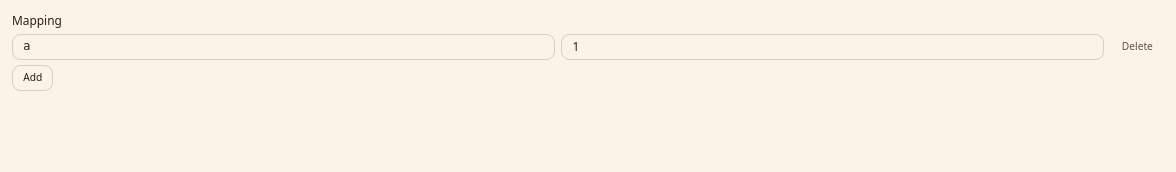
Scenario: KeyValueField › кнопка «Добавить» добавляет пустую строку парой инпутов
The image size is (1176, 172).
expect the number of fields is 2: met, box [12,34,554,60]; [561,34,1104,60]
Click the button "Add" at {"x": 33, "y": 78}, box [12,65,53,91]
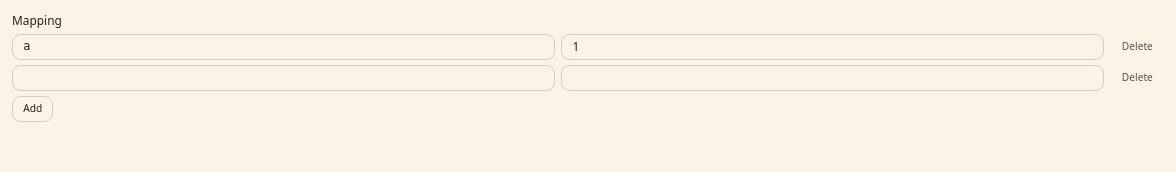
expect the number of fields is 4: met, box [12,34,554,60]; [561,34,1104,60]; [12,65,554,91]; [561,65,1104,91]
expect the 2nd field named "Key" is empty: met, box [12,65,554,91]
expect the 2nd field named "Value" is empty: met, box [561,65,1104,91]
